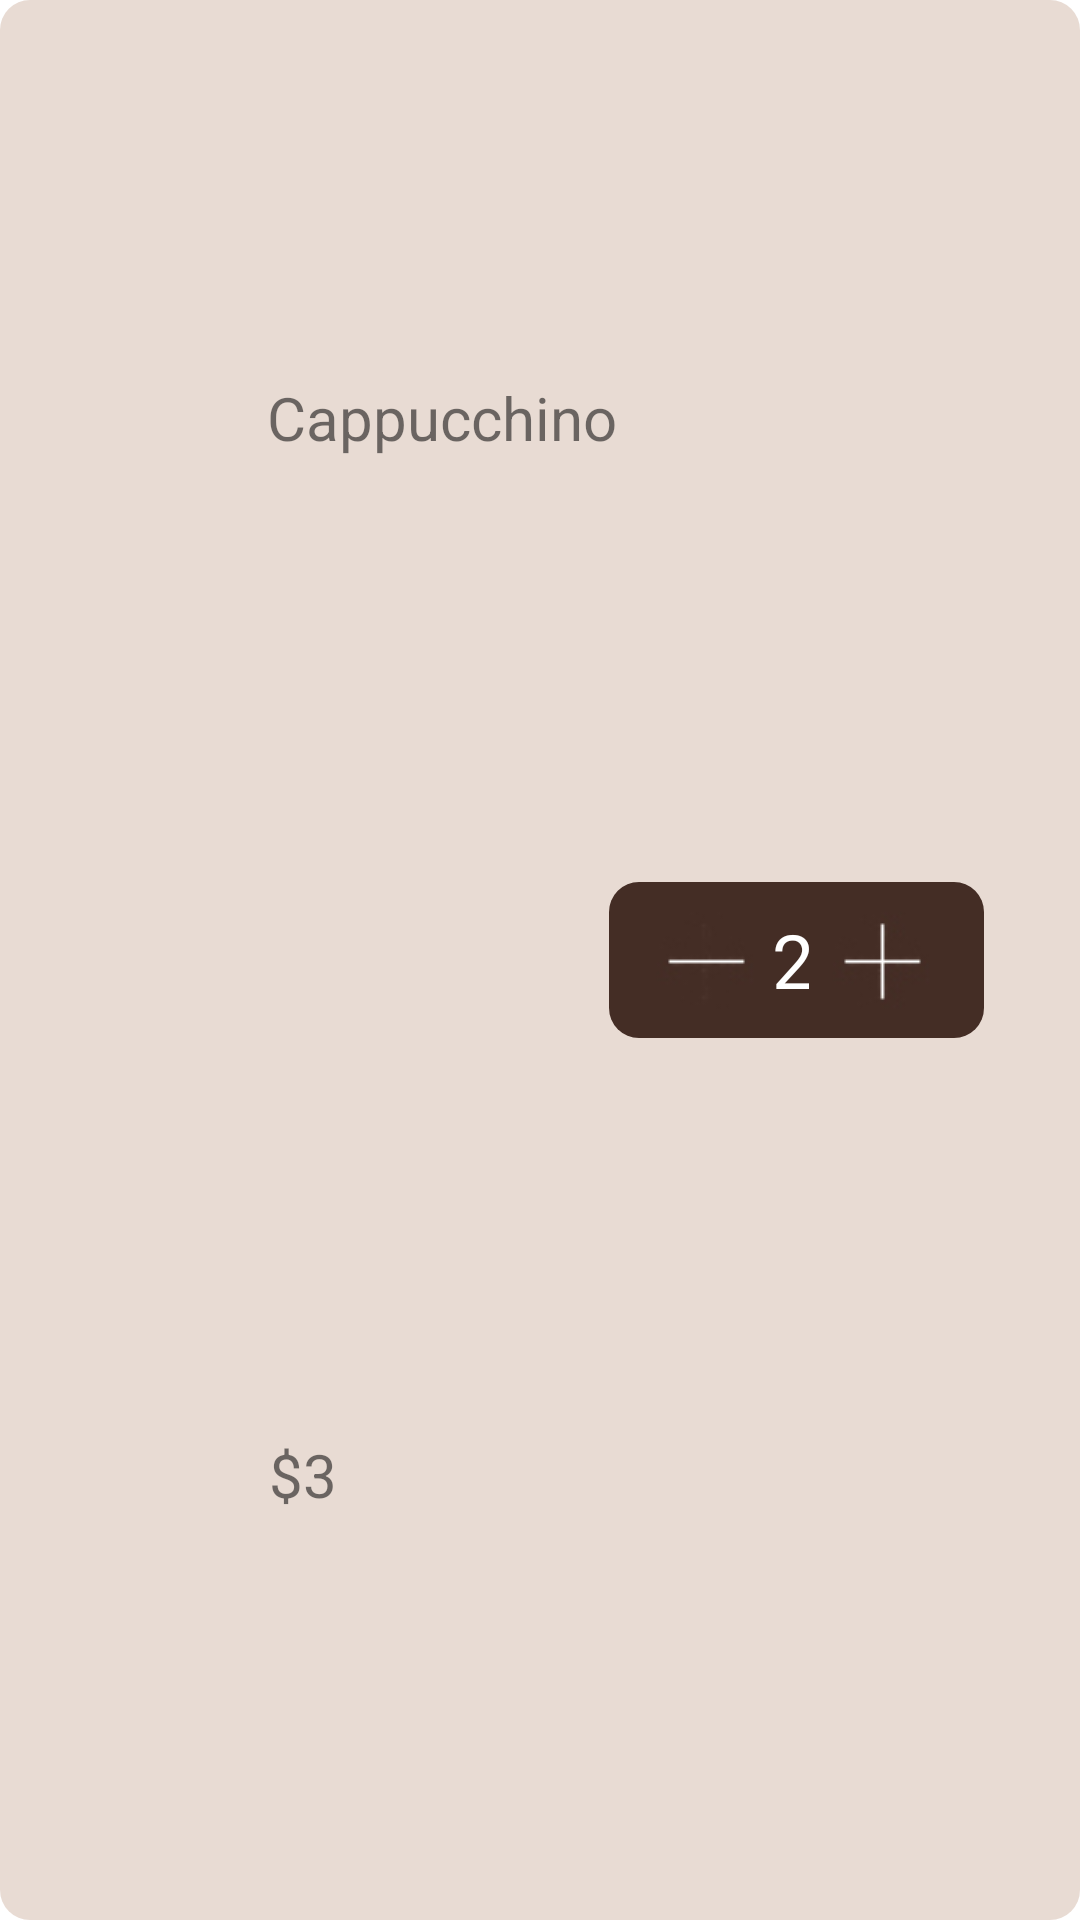

Icons on this 1080px x 1920px Android screen, each with its box as {"x1": x1, "y1": y1, "x2": x2, "y2": y2}:
plus: {"x1": 844, "y1": 923, "x2": 921, "y2": 1000}
